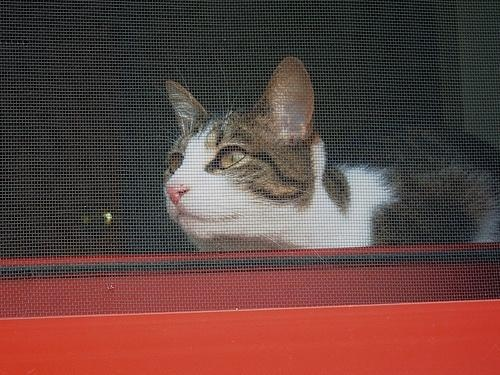cat: (153, 54, 500, 248)
